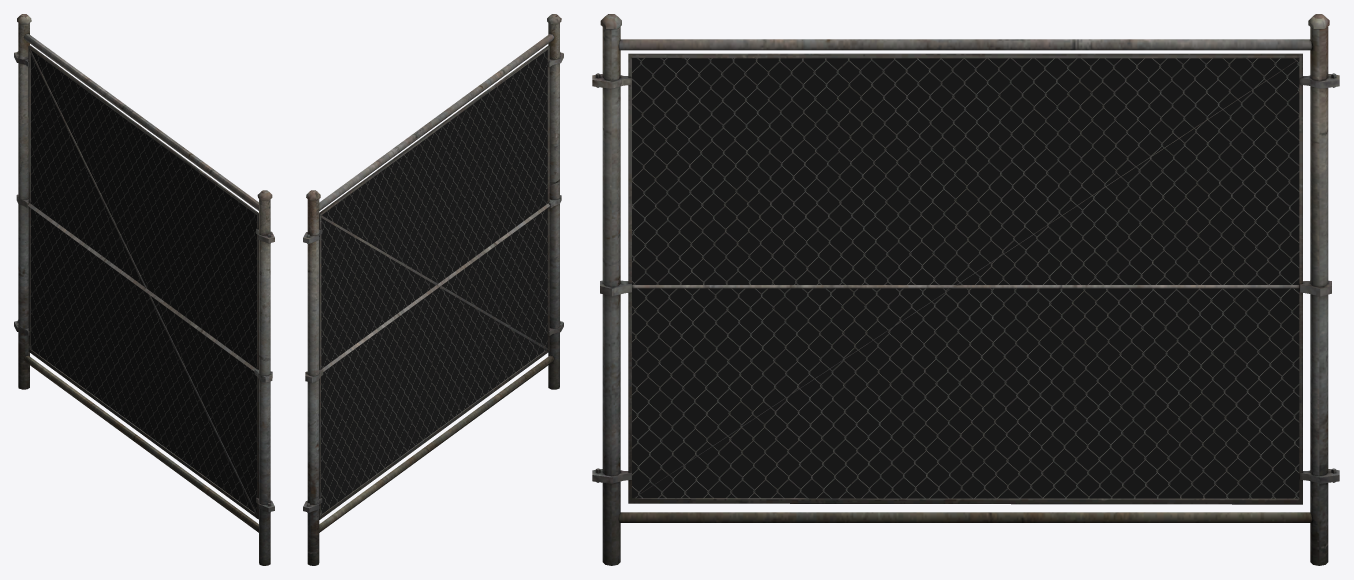
Rendered from fence.dae.
The picture shows the model from 3 angles, left to right: view 1: azimuth 30°, elevation 25°; view 2: azimuth 150°, elevation 25°; view 3: azimuth 270°, elevation 25°; orthographic projection. The views are drawn at different scales.
Visible parts, largest first — view 1: Body.fence01a_reference.smd.mesh_1, Body.fence01a_reference.smd.mesh_0; view 2: Body.fence01a_reference.smd.mesh_1, Body.fence01a_reference.smd.mesh_0; view 3: Body.fence01a_reference.smd.mesh_1, Body.fence01a_reference.smd.mesh_0.
Part boxes in pixels (x1,y1,x2,y2): Body.fence01a_reference.smd.mesh_1: (30, 50, 256, 513); Body.fence01a_reference.smd.mesh_0: (14, 14, 274, 565); Body.fence01a_reference.smd.mesh_1: (321, 50, 547, 514); Body.fence01a_reference.smd.mesh_0: (303, 14, 563, 565); Body.fence01a_reference.smd.mesh_1: (632, 58, 1299, 498); Body.fence01a_reference.smd.mesh_0: (592, 14, 1339, 565).
Size of the model in its own units: 4.43 by 109 by 135.
Materials: 2 (2 with a texture image).
